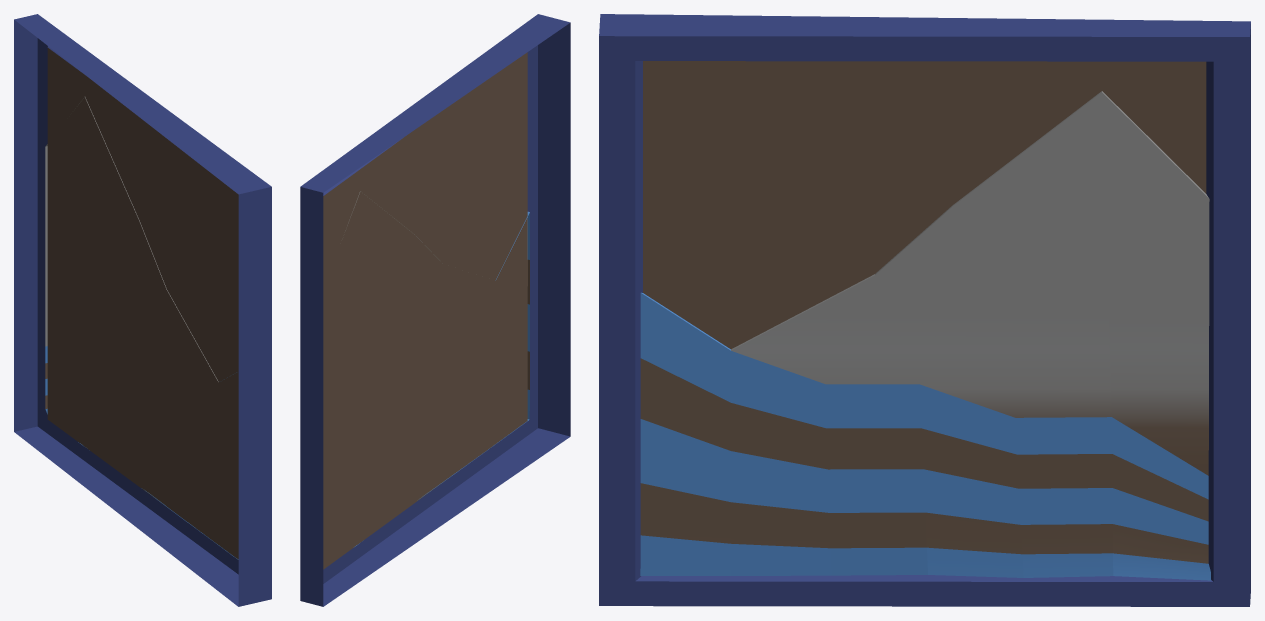
Rendered from Bedroom3_picture2.fbx.
3 renders of one model, left to right at view 1: azimuth 30°, elevation 25°; view 2: azimuth 150°, elevation 25°; view 3: azimuth 270°, elevation 25°, orthographic. The views are drawn at different scales.
Parts seen in each view (by area): view 1: Bedroom3_picture2; view 2: Bedroom3_picture2; view 3: Bedroom3_picture2.
Part boxes in pixels (box(x1,y1,x2,y2)): Bedroom3_picture2: box(14, 14, 271, 606); Bedroom3_picture2: box(300, 14, 570, 606); Bedroom3_picture2: box(599, 14, 1250, 606).
Size of the model in its own units: 5.7 by 65.52 by 67.91.
